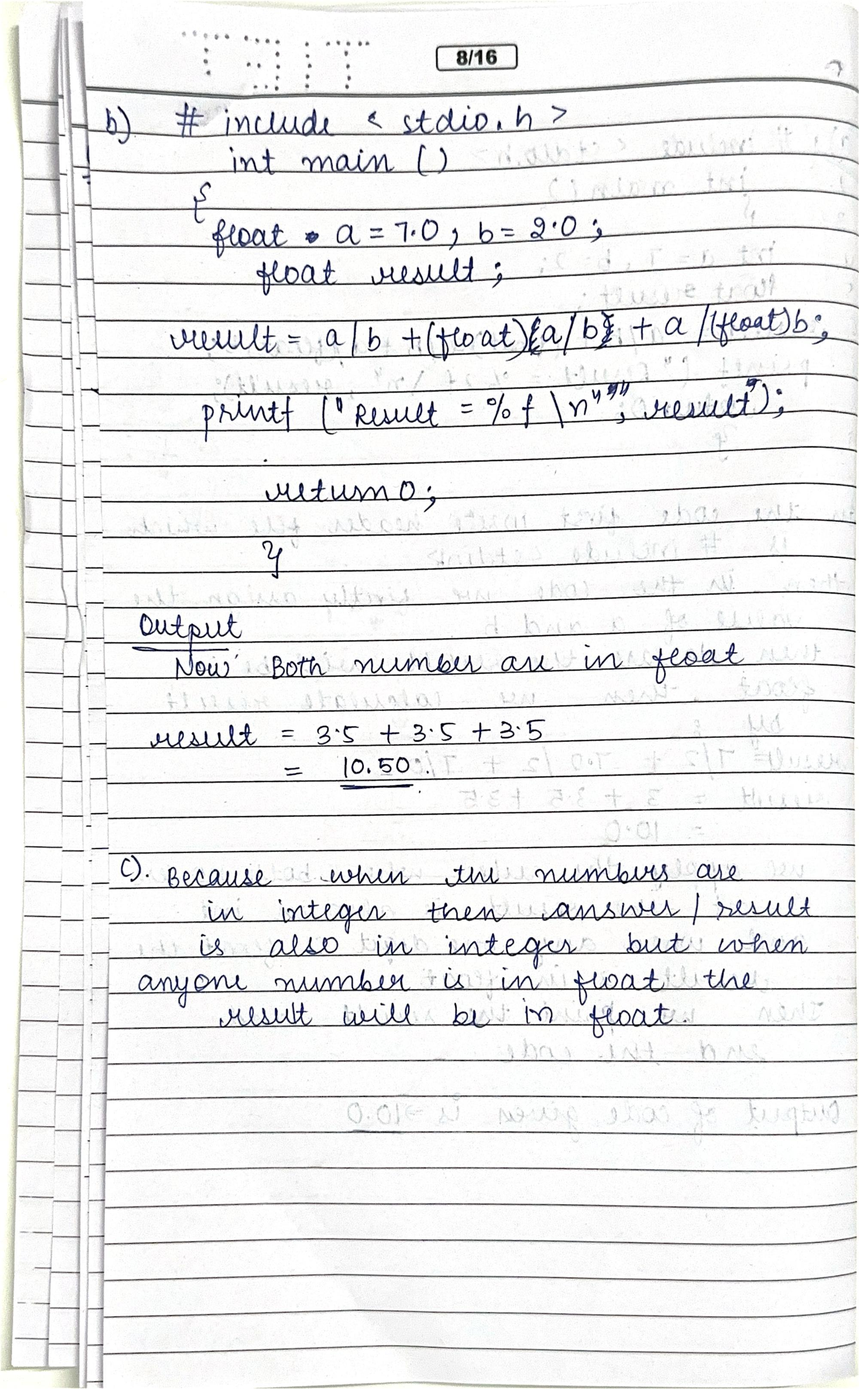cuttings: (593, 311, 615, 352), (527, 316, 543, 356), (606, 381, 619, 402), (745, 377, 762, 393), (303, 230, 320, 245)
